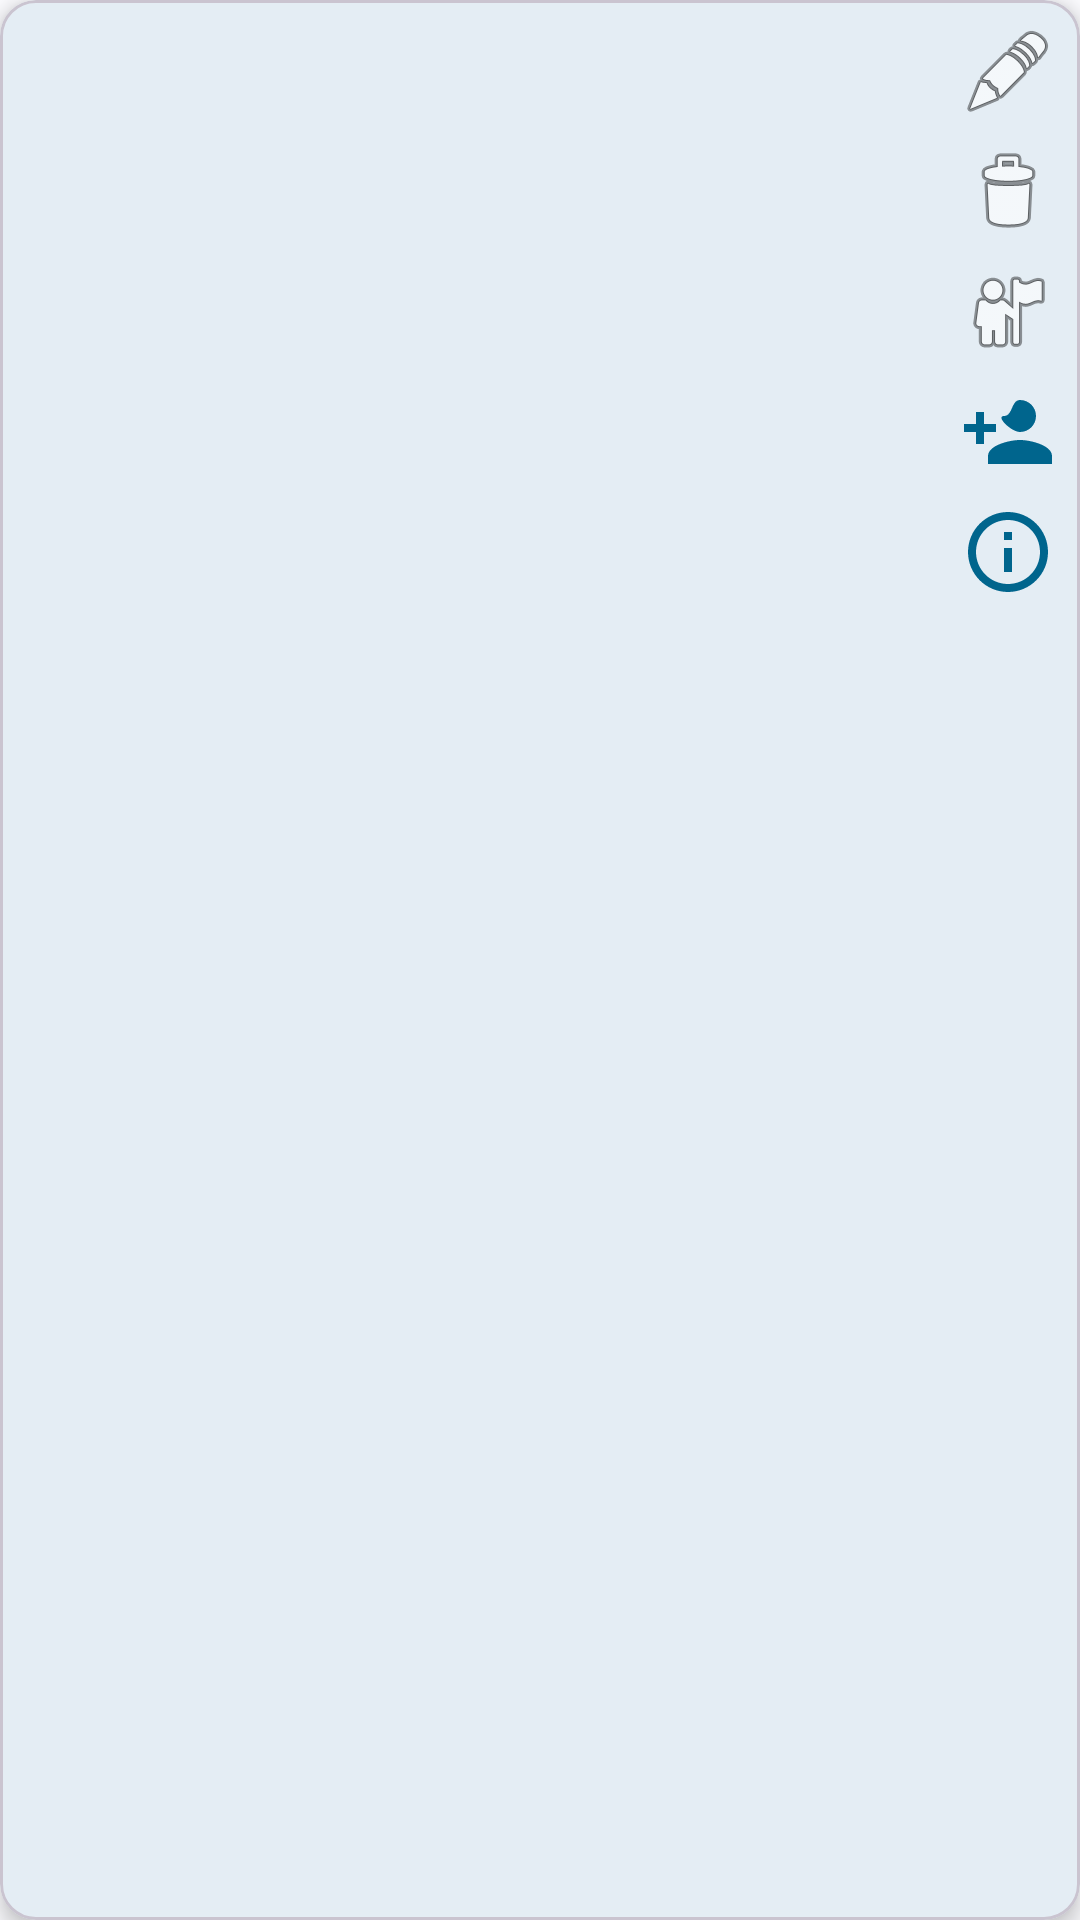

Screen size 1080x1920. Icon name, then its center in pixels as [x,y]:
Aggiungi Contatto: [1008,432]
Cancella Account: [1008,190]
info: [1008,552]
Modifica Paziente: [1007,71]
